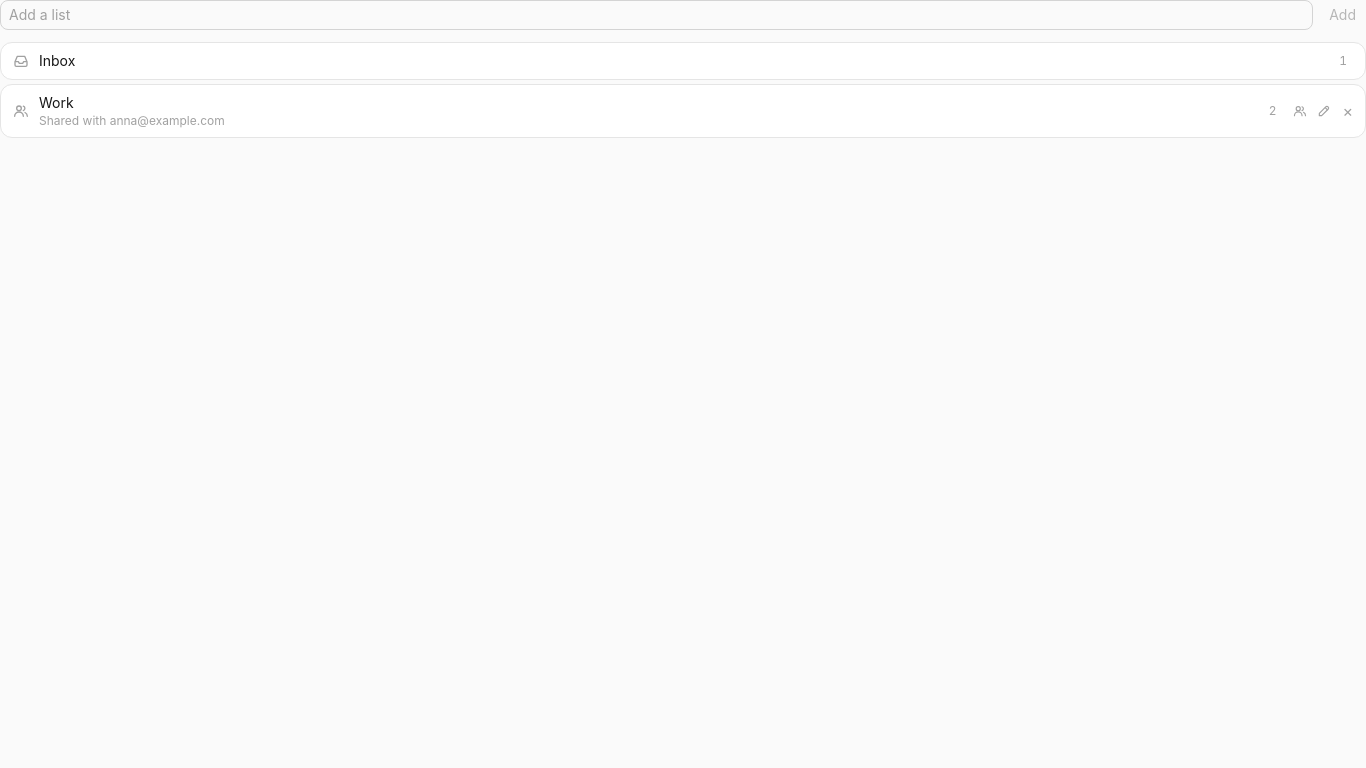
Test case: sharing a list › says why rather than sharing it with an address it is shared with already (LST-28)
Click the button named "Share the list \"Work\"" at (1300, 111), box [1288,99,1312,123]
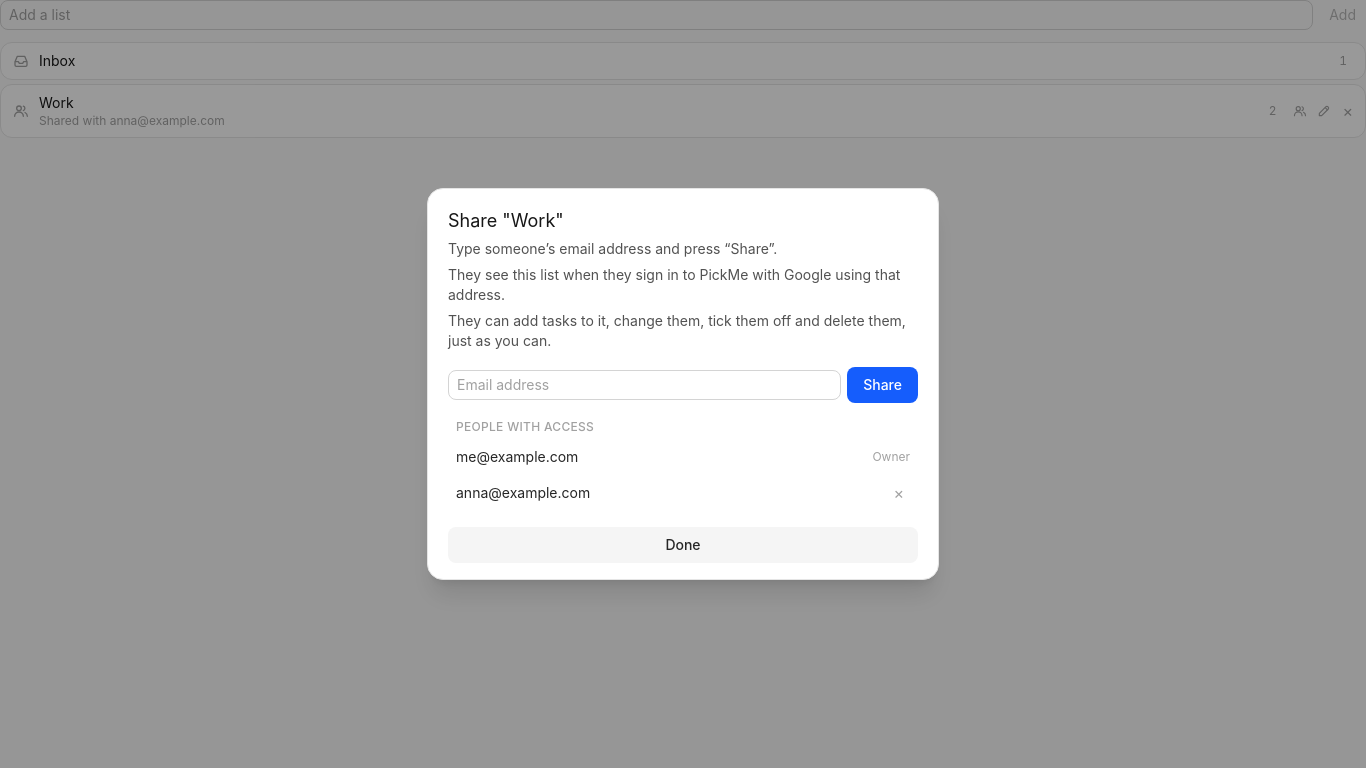
Type "anna@example.com" into the field named "Email address to share the list with" at (645, 385), box [448,370,841,400]
Then press Enter
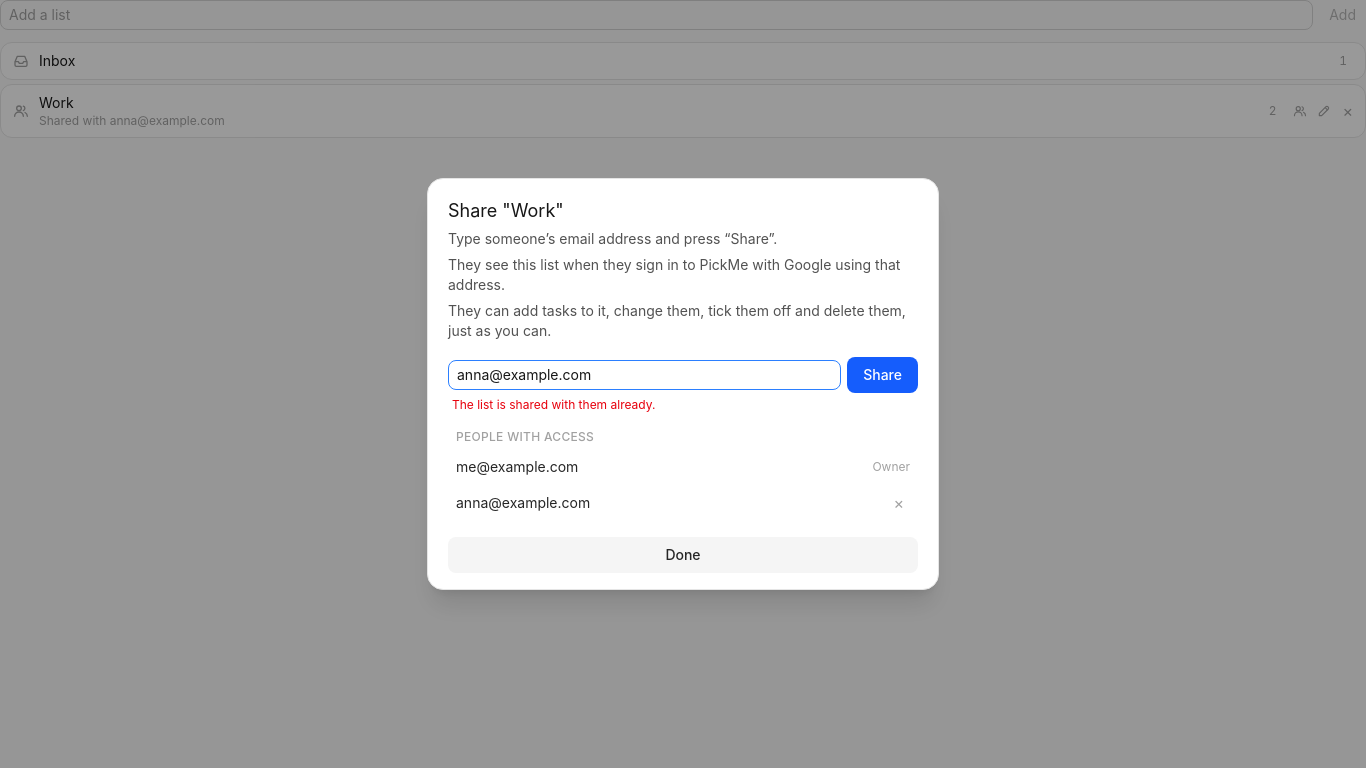
Now the message reads "The list is shared with them already.", box [452,397,655,412]
